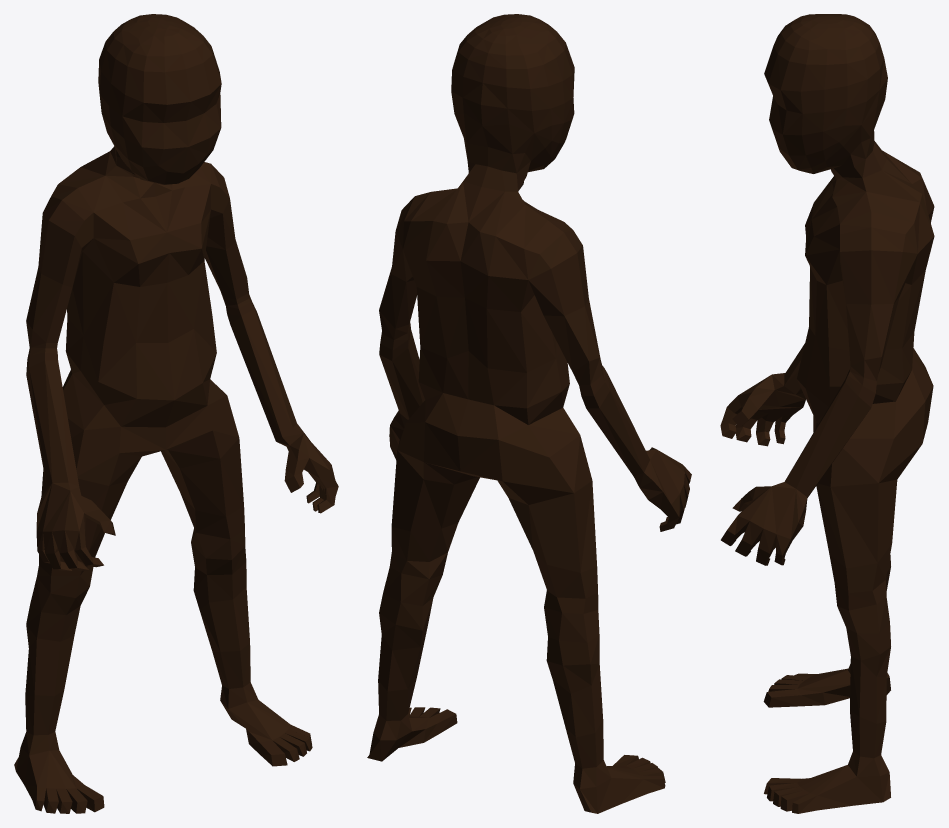
Rendered from BaseDude_size.FBX.
3 views of the same model, side by side, from view 1: azimuth 30°, elevation 25°; view 2: azimuth 150°, elevation 25°; view 3: azimuth 270°, elevation 25° (orthographic). The views are drawn at different scales.
Parts seen in each view (by area): view 1: Box001; view 2: Box001; view 3: Box001.
Boxes of the visible parts, x1,y1,x2,y2 form: Box001: (14,14,338,813); Box001: (367,14,691,813); Box001: (720,14,934,813).
Size of the model in its own units: 71.24 by 175 by 46.58.
